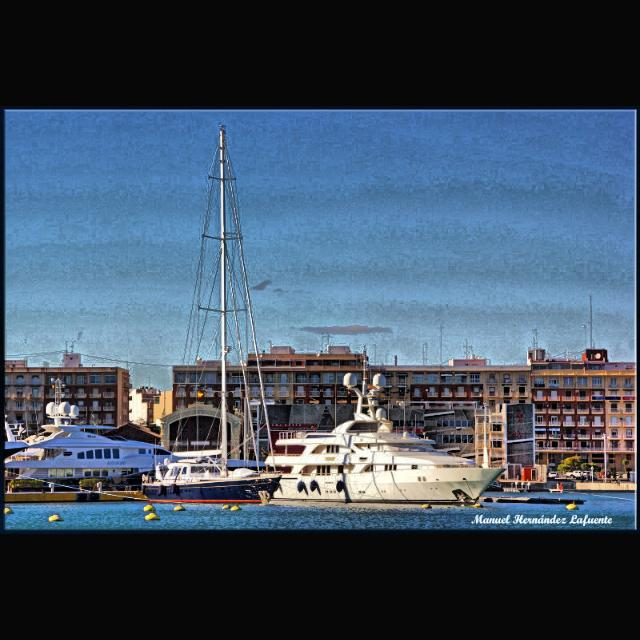buoy: (48, 513, 64, 523), (144, 513, 162, 521), (230, 503, 242, 512), (566, 502, 578, 511), (5, 506, 15, 516), (143, 505, 155, 513), (174, 504, 186, 512), (421, 505, 433, 511), (473, 504, 483, 508), (222, 506, 230, 510)
sailing_vessel: (140, 124, 284, 506)
yacht: (251, 370, 509, 506), (5, 400, 269, 494)
